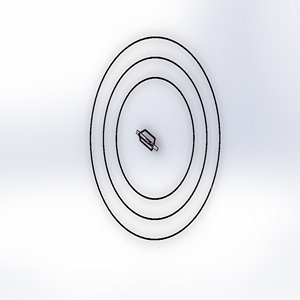circle: (87, 31, 225, 245)
submarine: (132, 122, 166, 162)
